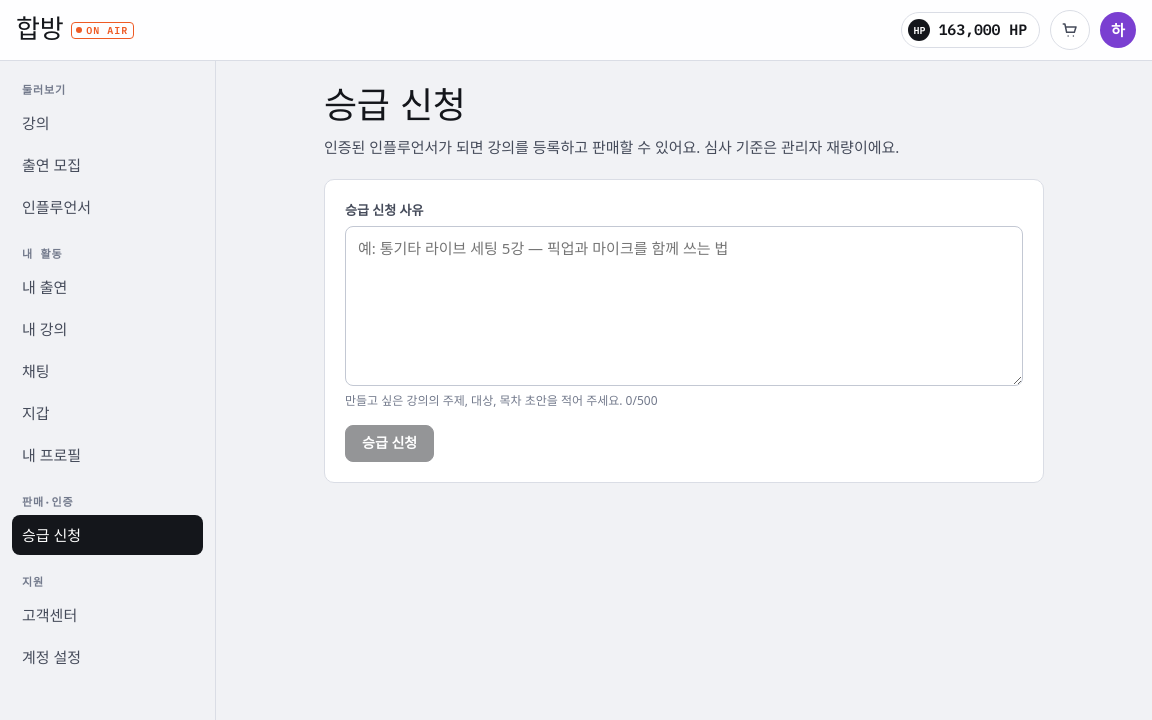
Test: 승급 신청 › 사유를 적어 신청하면 심사 중으로 바뀌고 폼이 사라진다
Expected: the button "승급 신청" is disabled, top-left (345, 425), bottom-right (434, 462)
Type "  통기타 라이브 세팅 5강  " into the text box labelled "승급 신청 사유" at (684, 306), box top-left (345, 226), bottom-right (1023, 386)
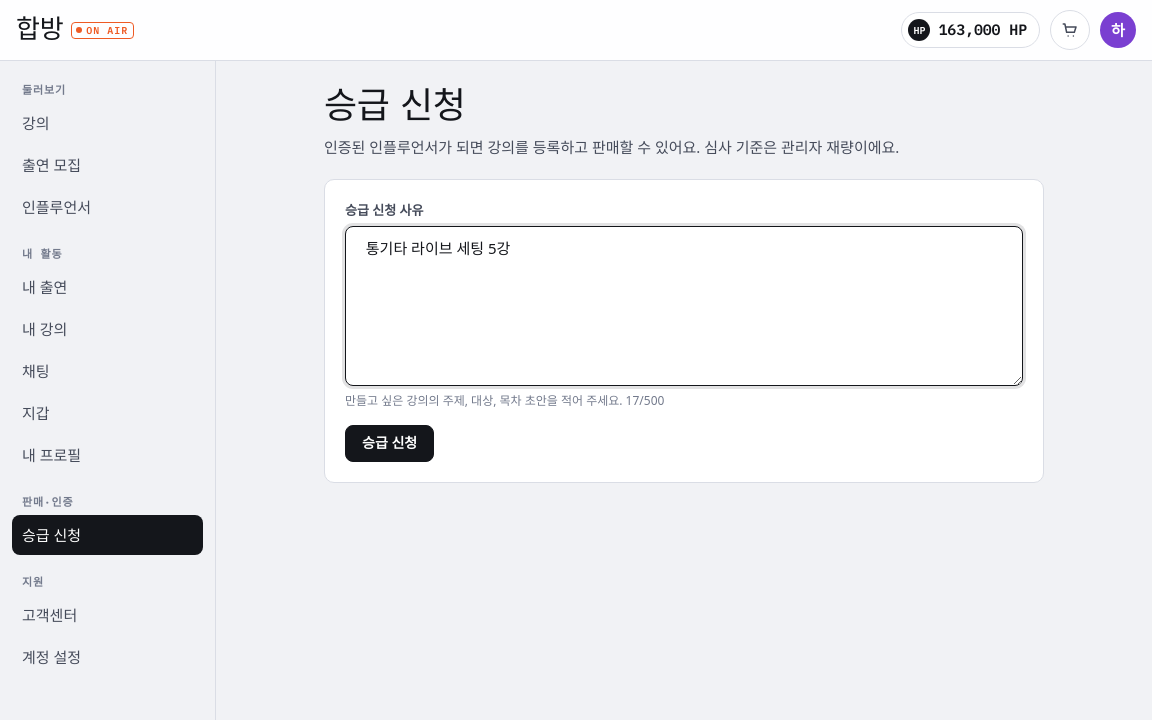
Click the button "승급 신청" at (390, 443), box top-left (345, 425), bottom-right (434, 462)
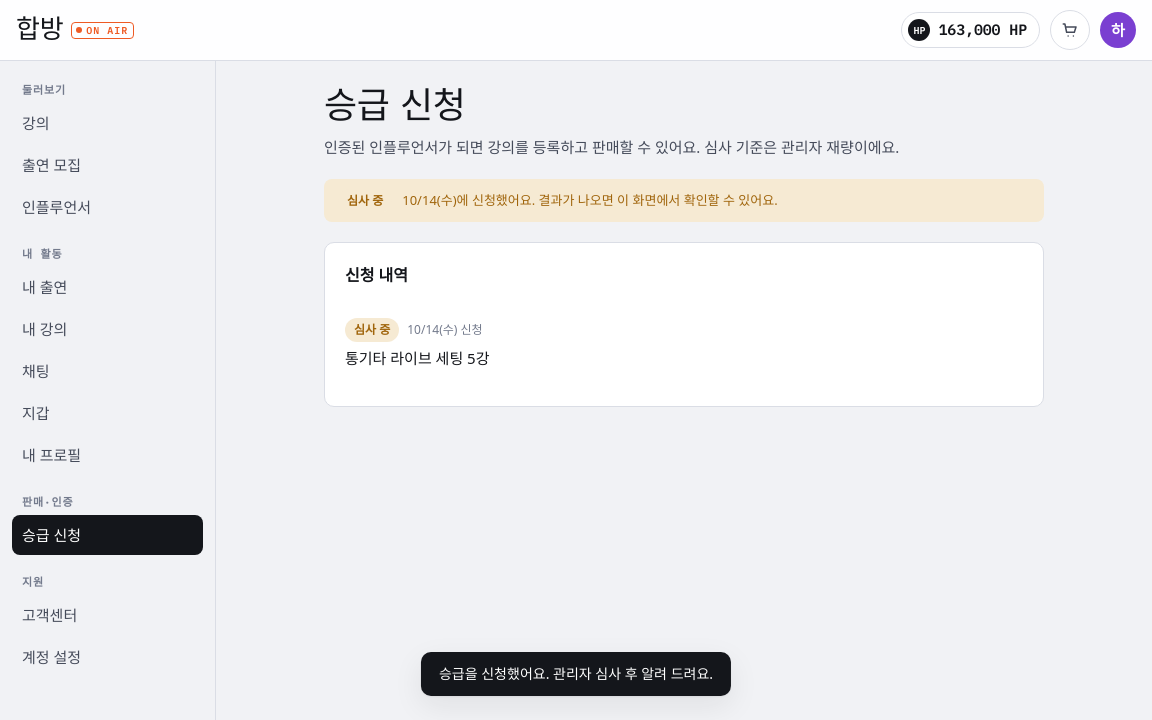
Result: the text "심사 중 10/14(수)에 신청했어요. 결과가 나오면 이 화면에서 확인할 수 있어요." is shown at top-left (324, 179), bottom-right (1044, 222)
Result: the label labelled "승급 신청 사유" is gone
Result: the heading "신청 내역" is shown at top-left (345, 264), bottom-right (408, 286)
